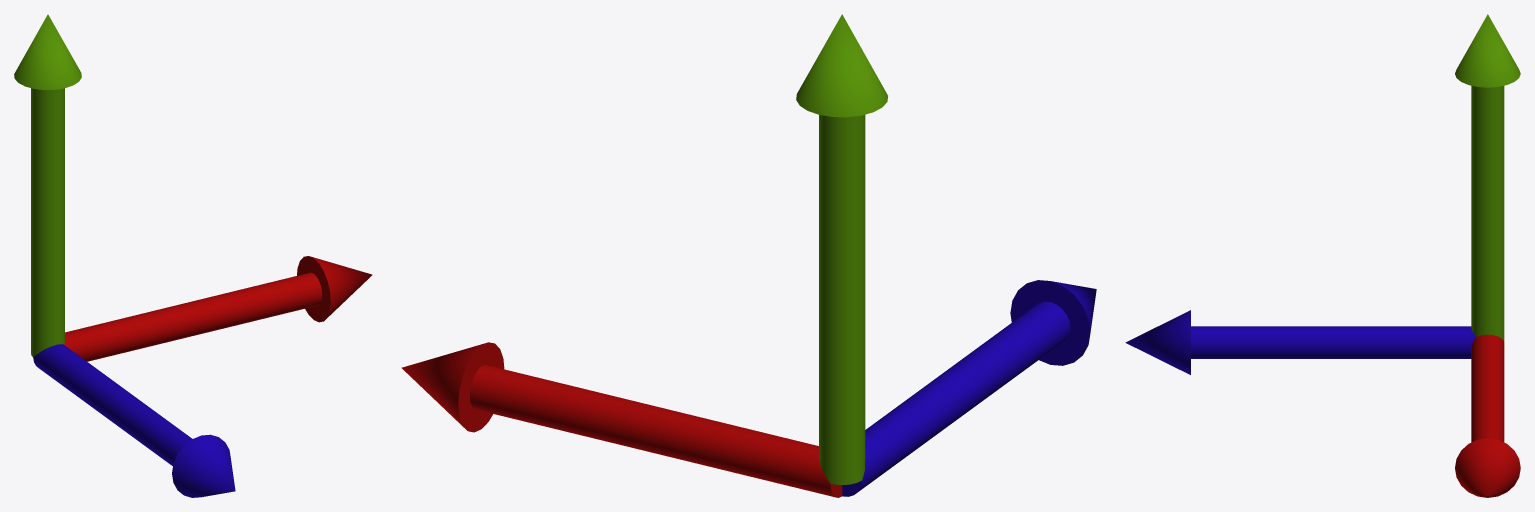
Rendered from GizmoRight.fbx.
3 renders of one model, left to right at view 1: azimuth 30°, elevation 25°; view 2: azimuth 150°, elevation 25°; view 3: azimuth 270°, elevation 25°, orthographic. The views are drawn at different scales.
Visible parts, largest first — view 1: pCone6; view 2: pCone6; view 3: pCone6.
Boxes of the visible parts, x1,y1,x2,y2 form: pCone6: (14,14,372,497); pCone6: (401,14,1096,497); pCone6: (1125,14,1520,497).
Size of the model in its own units: 12 by 12 by 12.
